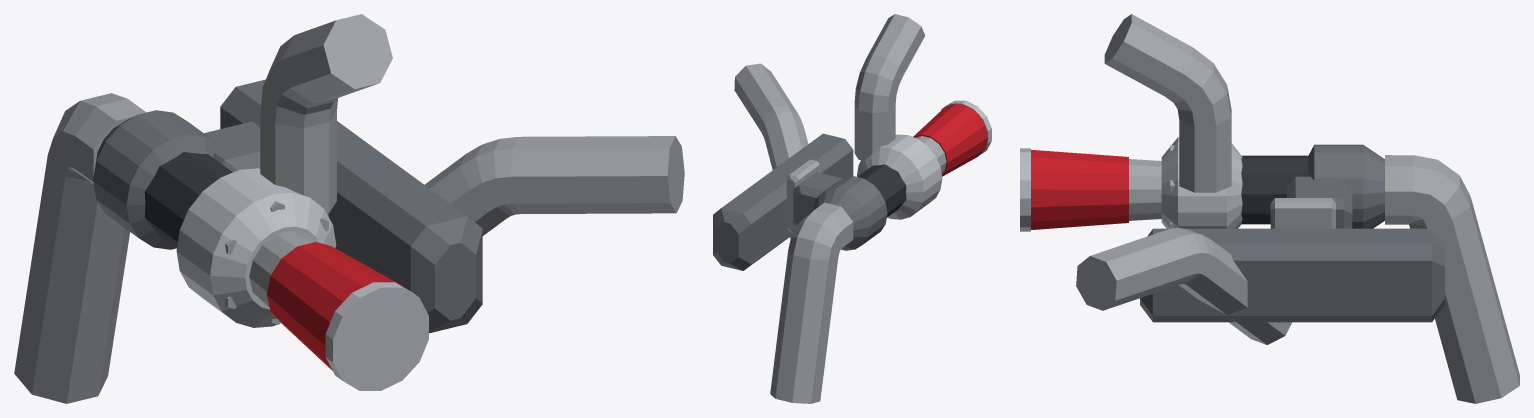
Rendered from brute_500.glb.
The picture shows the model from 3 angles, left to right: view 1: azimuth 30°, elevation 25°; view 2: azimuth 150°, elevation 25°; view 3: azimuth 270°, elevation 25°; orthographic projection. The views are drawn at different scales.
Visible parts, largest first — view 1: model; view 2: model; view 3: model.
Part boxes in pixels (x1,y1,x2,y2): model: [14, 14, 684, 403]; model: [713, 14, 991, 403]; model: [1020, 14, 1519, 403].
Bounding box in the file's own units: 0.3351 × 0.3968 × 0.4587.
Materials: 2 (1 with a texture image).
